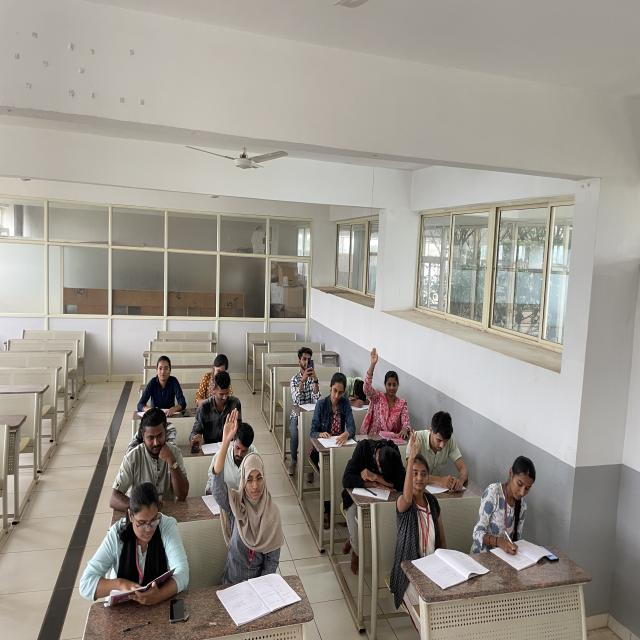Hand Rising: (200, 402, 284, 588), (393, 428, 449, 582), (363, 343, 413, 440)
Reading: (74, 478, 200, 624), (418, 408, 472, 492), (189, 369, 239, 456), (311, 368, 358, 455)
Sleeping: (343, 433, 408, 503), (345, 370, 372, 408)
Using Phone: (108, 408, 188, 508), (287, 344, 325, 413)
Writing: (473, 451, 553, 573), (202, 420, 262, 507), (135, 352, 189, 420)
